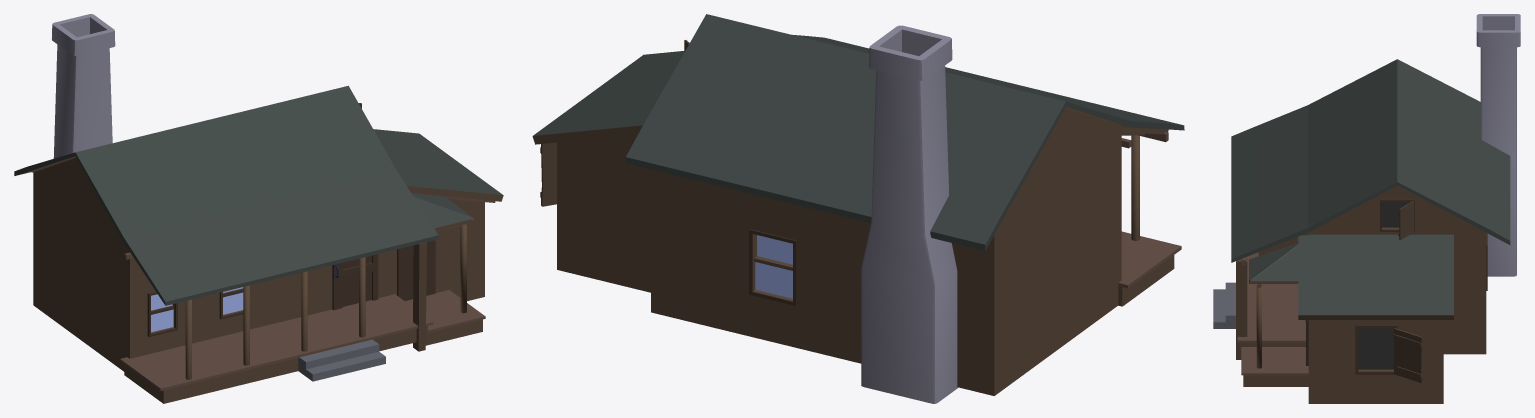
The model's file is TEST_CABIN.fbx.
The picture shows the model from 3 angles, left to right: view 1: azimuth 30°, elevation 25°; view 2: azimuth 150°, elevation 25°; view 3: azimuth 270°, elevation 25°; orthographic projection. The views are drawn at different scales.
Visible parts, largest first — view 1: MainHouse, Chimney; view 2: MainHouse, Chimney; view 3: MainHouse, Chimney.
Boxes of the visible parts, bbox=[...] form: MainHouse: bbox=[14, 85, 503, 403]; Chimney: bbox=[52, 14, 115, 158]; MainHouse: bbox=[532, 14, 1184, 395]; Chimney: bbox=[861, 25, 958, 403]; MainHouse: bbox=[1213, 59, 1510, 403]; Chimney: bbox=[1476, 14, 1520, 276].
Bounding box in the file's own units: 1494 × 984 × 1112.
